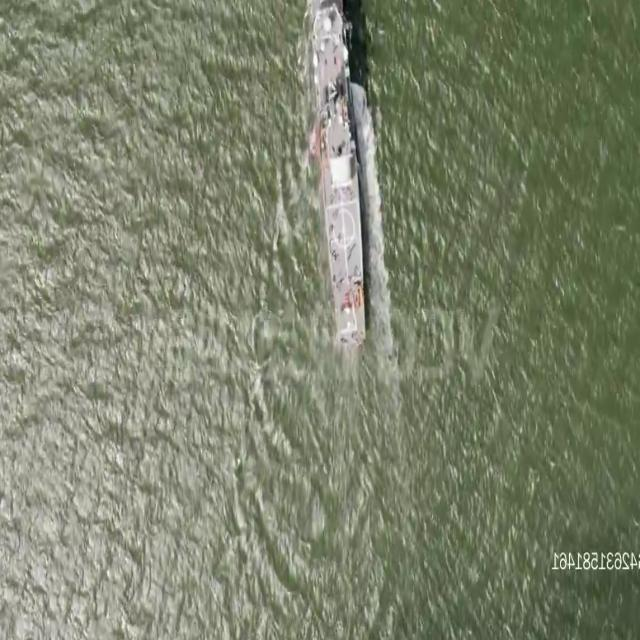navalvessels: (312, 0, 372, 346)
